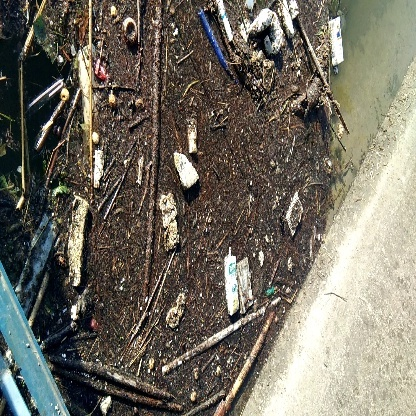branch: (59, 352, 183, 412), (144, 17, 160, 283)
milk-box: (219, 245, 238, 317), (329, 15, 348, 72)
